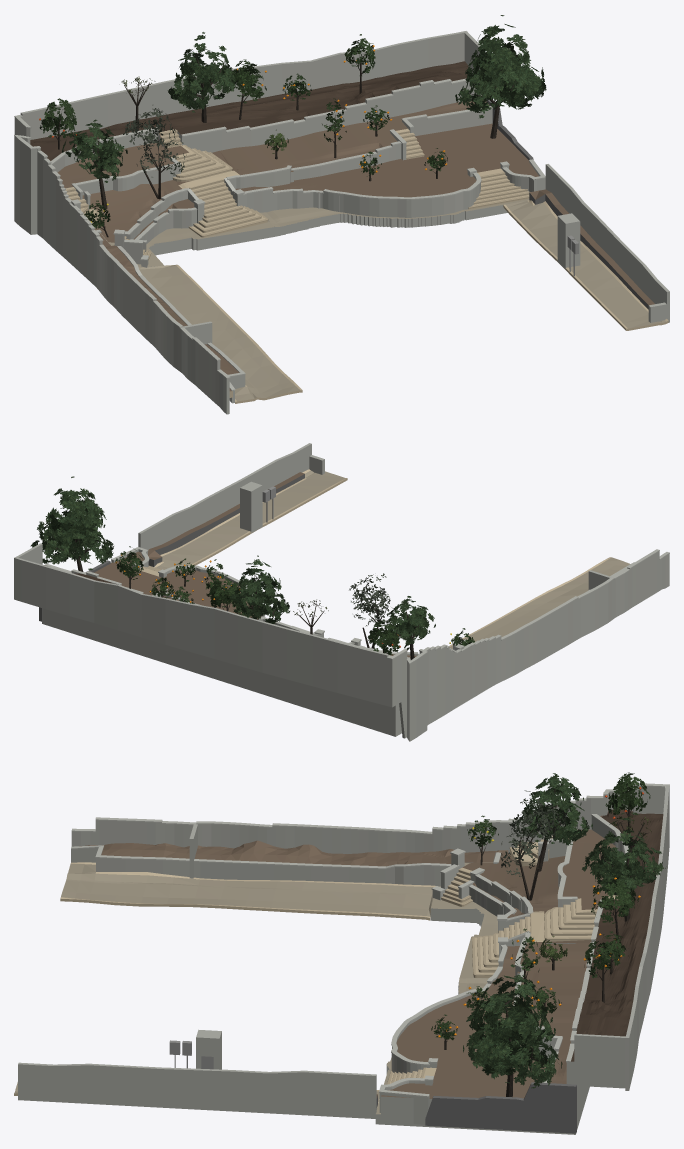
File: reconstruction-309a4c753aa7.glb
3 renders of one model, top to bottom at view 1: azimuth 30°, elevation 25°; view 2: azimuth 150°, elevation 25°; view 3: azimuth 270°, elevation 25°, orthographic. The views are drawn at different scales.
Parts seen in each view (by area): view 1: ground-terraces, wall-west-boundary-rear, wall-rear-boundary, ground-side-west, planting-tree-14, wall-we, wall-wa, ground-side-east, wall-east-side-boundary, wall-wb, planting-tree-03, planting-tree-02 (+19 smaller); view 2: wall-rear-boundary, wall-west-boundary-rear, ground-terraces, wall-east-side-boundary, planting-tree-14, ground-side-east, ground-side-west, planting-tree-03, planting-tree-02, planter-fill-east-side, planting-tree-01, coping-west-boundary-rear (+4 smaller); view 3: ground-terraces, ground-side-west, wall-east-side-boundary, wall-west-boundary-rear, planting-tree-14, wall-west-side-retaining, slot-filler-east, wall-rear-boundary, planting-tree-03, planting-tree-02, wall-rear-boundary-return-east, planting-tree-01 (+17 smaller).
Part boxes in pixels (x1,y1,x2,y2): ground-terraces: (30,61,538,267); wall-west-boundary-rear: (14,117,229,414); wall-rear-boundary: (20,31,467,139); ground-side-west: (99,233,302,403); planting-tree-14: (455,15,546,138); wall-we: (182,81,481,152); wall-wa: (99,162,545,243); ground-side-east: (503,200,668,330); wall-east-side-boundary: (545,164,669,322); wall-wb: (130,108,492,239); planting-tree-03: (167,32,237,122); planting-tree-02: (62,119,127,208); wall-rear-boundary: (14,557,388,705); wall-west-boundary-rear: (387,551,669,741); ground-terraces: (42,551,416,736); wall-east-side-boundary: (138,443,324,549); planting-tree-14: (30,476,113,571); ground-side-east: (154,469,347,569); ground-side-west: (449,557,630,649); planting-tree-03: (229,555,289,623); planting-tree-02: (383,596,435,659); planter-fill-east-side: (148,472,304,566); planting-tree-01: (349,573,398,648); coping-west-boundary-rear: (387,549,669,664); ground-terraces: (375,808,663,1134); ground-side-west: (60,840,495,920); wall-east-side-boundary: (18,1062,376,1118); wall-west-boundary-rear: (71,786,669,863); planting-tree-14: (463,964,562,1096); wall-west-side-retaining: (71,848,448,886); slot-filler-east: (425,1082,576,1133); wall-rear-boundary: (625,785,669,1090); planting-tree-03: (582,813,665,921); planting-tree-02: (515,773,592,871); wall-rear-boundary-return-east: (574,1033,625,1083); planting-tree-01: (500,790,567,900).
Bounding box in the file's own units: 36.25 × 10.62 × 35.19.
18 materials, 6 textured.
